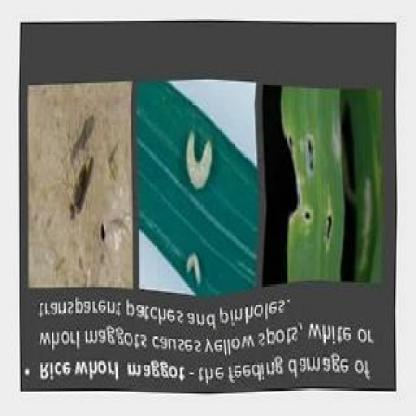whorl-maggot: (182, 127, 216, 195), (182, 248, 205, 286)
